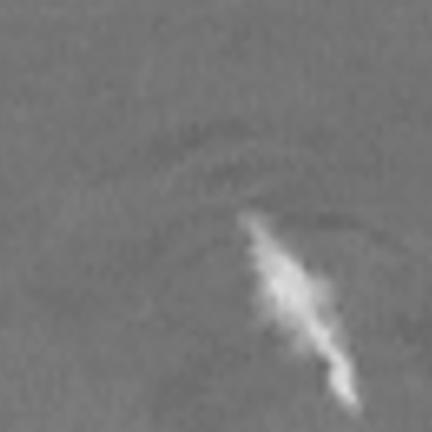flukeprints: (244, 215, 360, 413)
